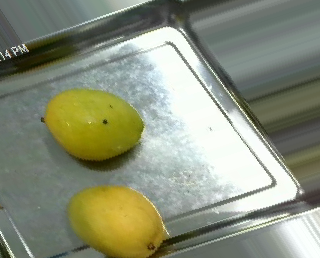Mango: (45, 89, 144, 159), (67, 186, 164, 254)
